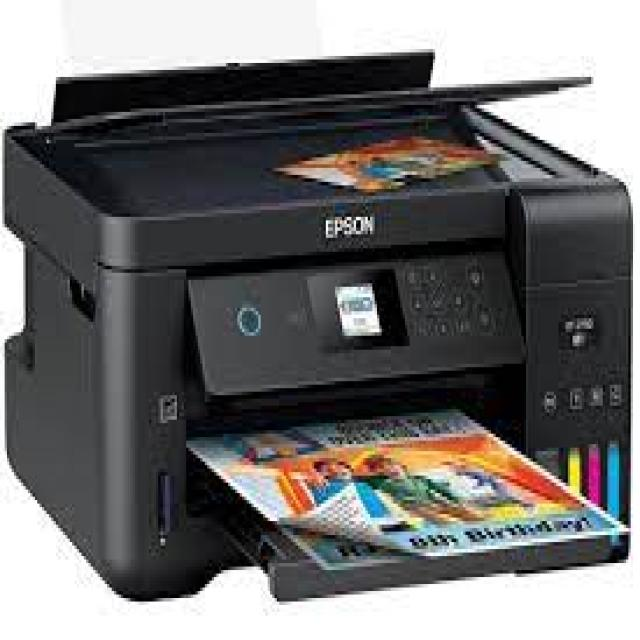printer: (0, 46, 640, 617)
